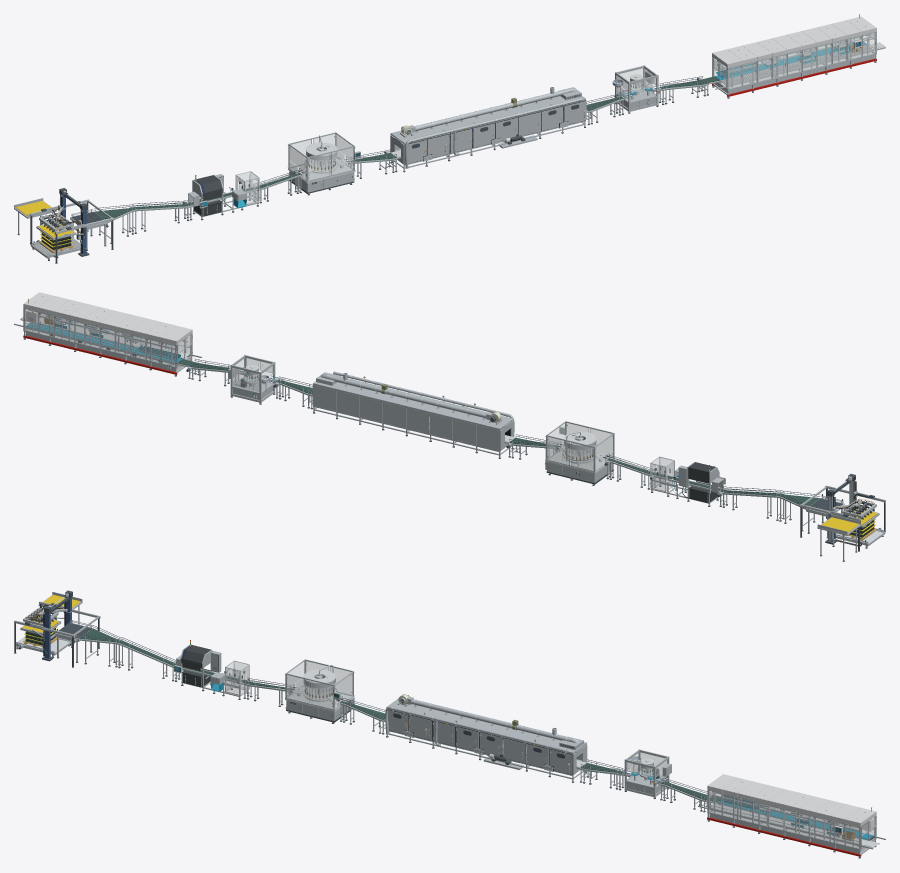
The model's file is bottling-line.glb.
3 views of the same model, one above another, from view 1: azimuth 30°, elevation 25°; view 2: azimuth 150°, elevation 25°; view 3: azimuth 330°, elevation 25° (orthographic). The views are drawn at different scales.
Parts seen in each view (by area): view 1: STERILIZER__Continuous roof, STERILIZER__Main recirculation duct, STERILIZER__Front hot water header; view 2: STERILIZER__Continuous roof, STERILIZER__Main recirculation duct, PACKER__Bottle belt upper run, STERILIZER__Front hot water header; view 3: STERILIZER__Continuous roof, STERILIZER__Main recirculation duct, STERILIZER__Front hot water header.
Boxes of the visible parts, bbox=[...] form: STERILIZER__Continuous roof: bbox=[390, 96, 585, 143]; STERILIZER__Main recirculation duct: bbox=[414, 89, 568, 130]; STERILIZER__Front hot water header: bbox=[405, 98, 581, 168]; STERILIZER__Continuous roof: bbox=[313, 376, 513, 429]; STERILIZER__Main recirculation duct: bbox=[328, 375, 486, 418]; PACKER__Bottle belt upper run: bbox=[27, 323, 181, 362]; STERILIZER__Front hot water header: bbox=[333, 371, 514, 431]; STERILIZER__Continuous roof: bbox=[386, 698, 586, 753]; STERILIZER__Main recirculation duct: bbox=[411, 699, 569, 741]; STERILIZER__Front hot water header: bbox=[385, 706, 566, 751].
Bounding box in the file's own units: 56.05 × 3.21 × 4.69.
